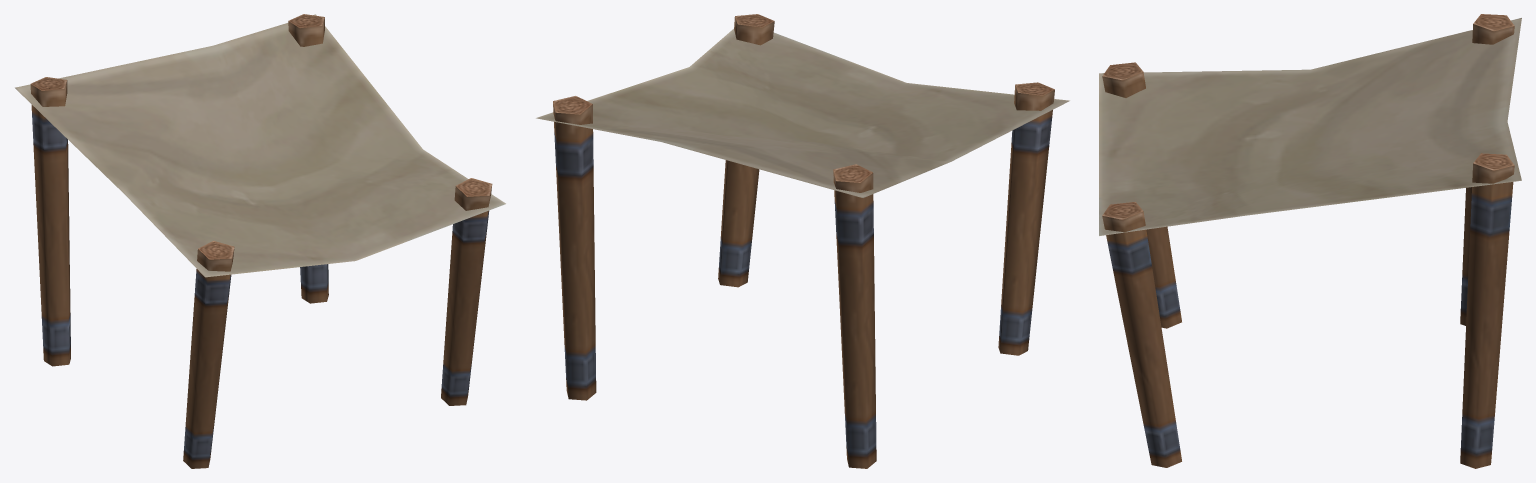
File: tent_4.FBX
The picture shows the model from 3 angles, left to right: view 1: azimuth 30°, elevation 25°; view 2: azimuth 150°, elevation 25°; view 3: azimuth 270°, elevation 25°; orthographic projection. The views are drawn at different scales.
Visible parts, largest first — view 1: tent_005; view 2: tent_005; view 3: tent_005.
Part boxes in pixels (x1,y1,x2,y2): tent_005: (15,14,505,468); tent_005: (536,14,1069,468); tent_005: (1099,14,1521,468).
Bounding box in the file's own units: 46.65 × 40.37 × 51.17.
